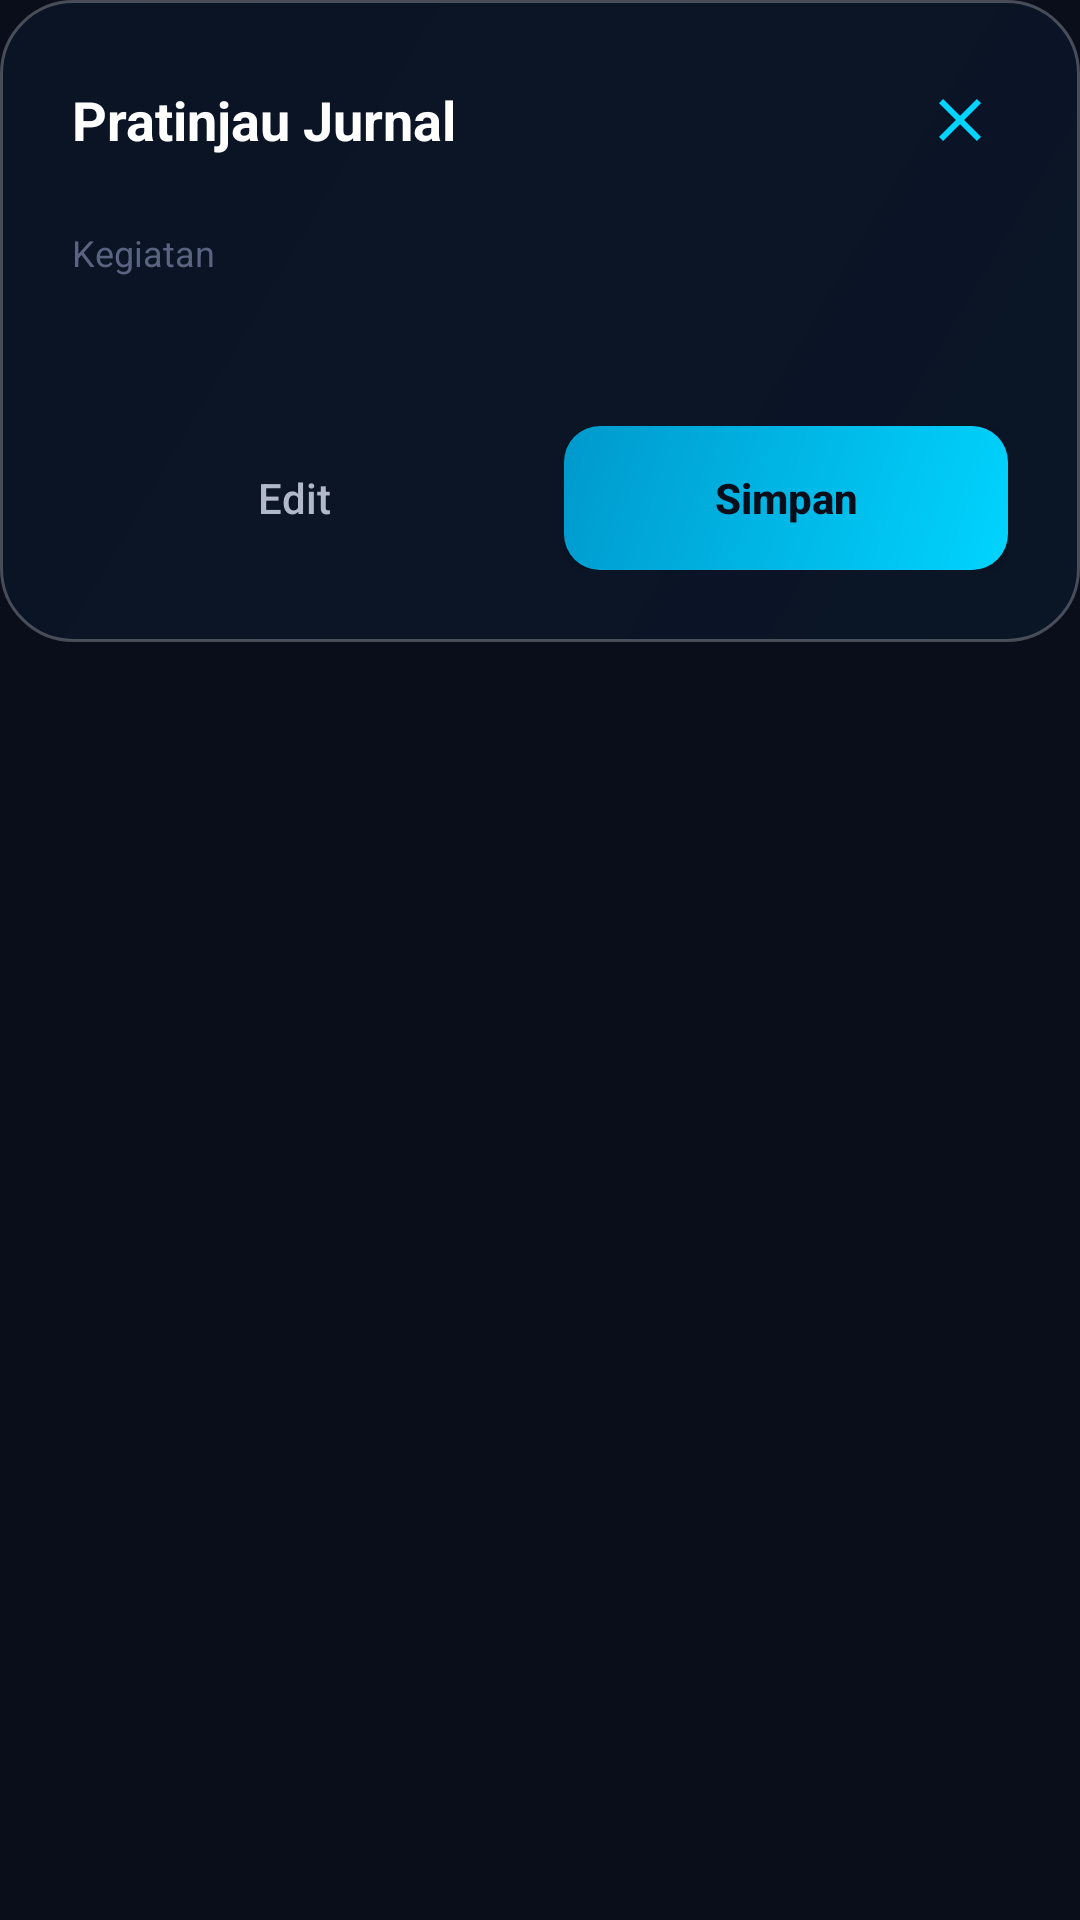

Where icons sit on this 1080px×1920px app screen, as (x1, y1, x2, y2):
Tutup: (939, 99, 981, 141)
